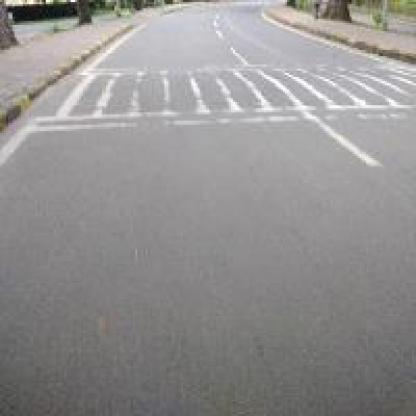Speed Bump: (33, 60, 414, 131)
